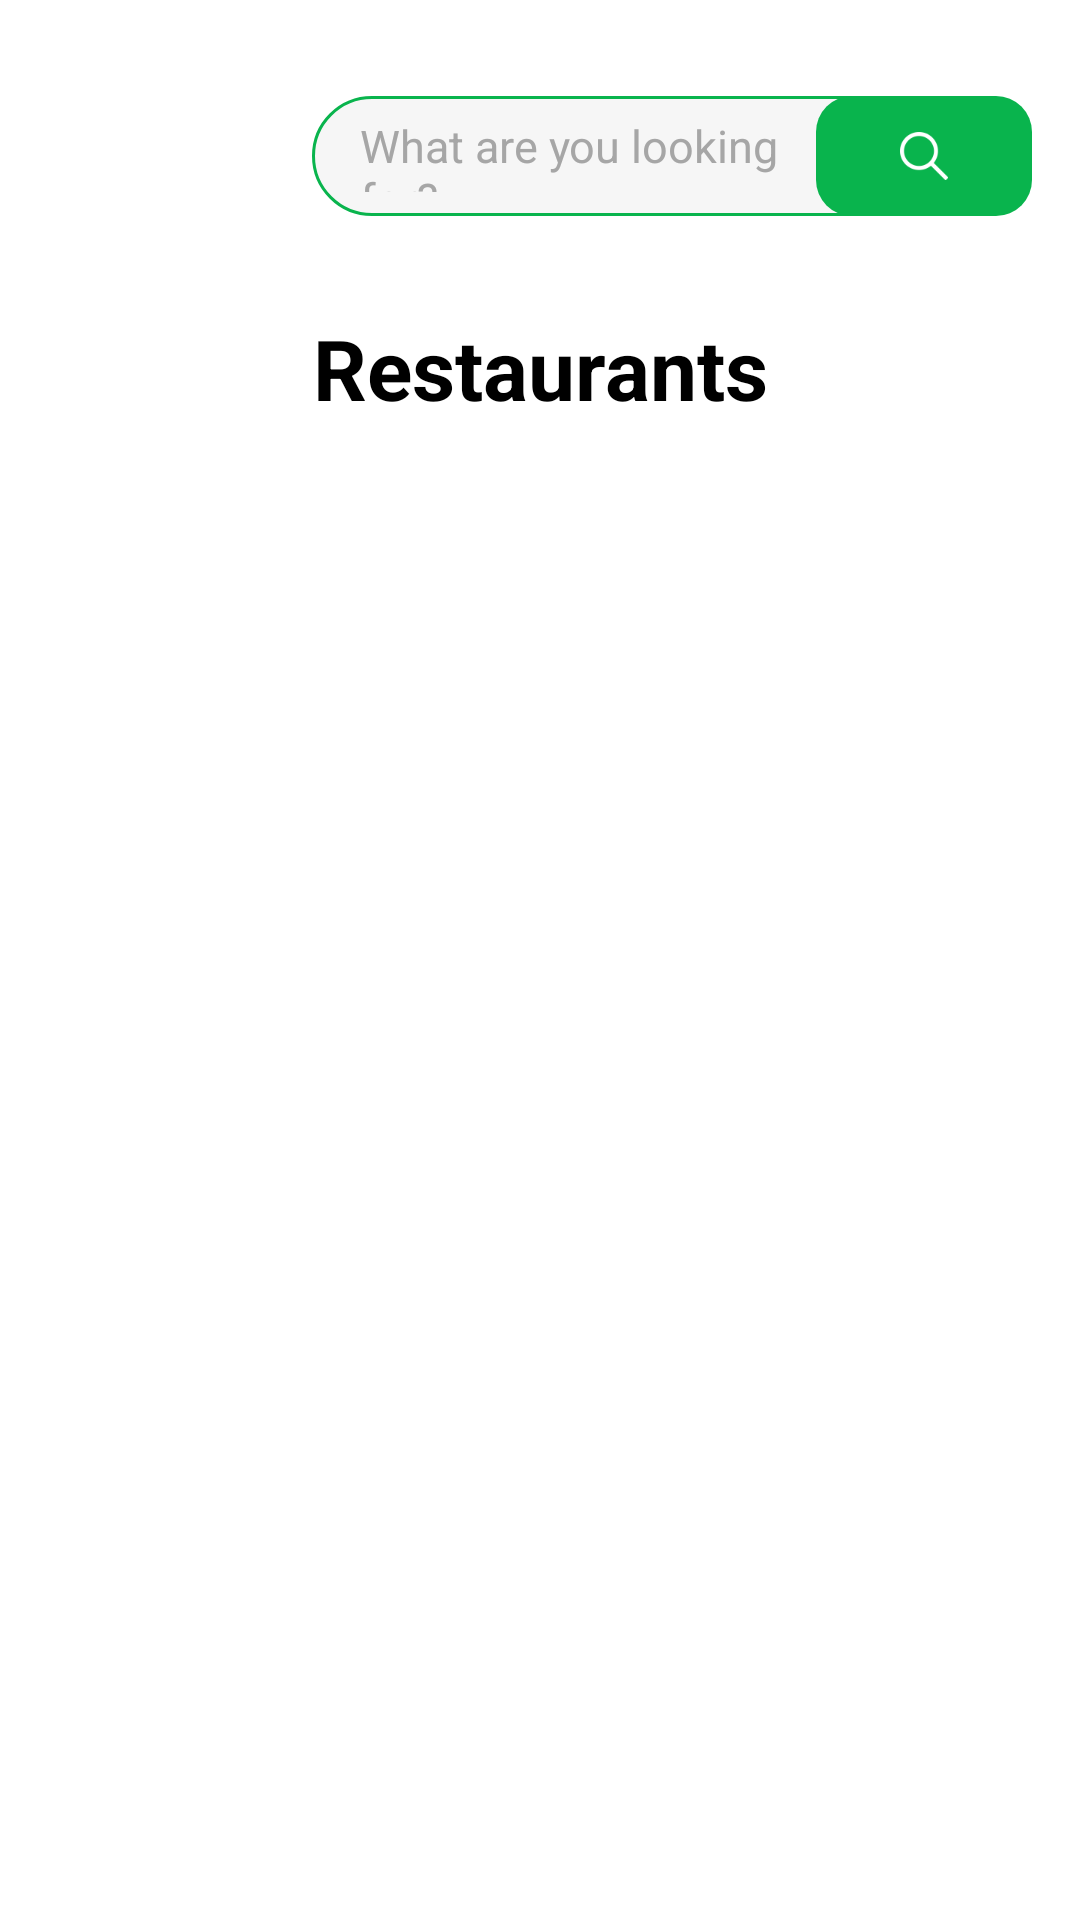

Icon click points for this 1080px x 1920px phone screenshot, format [x,y]:
search: [924,156]
